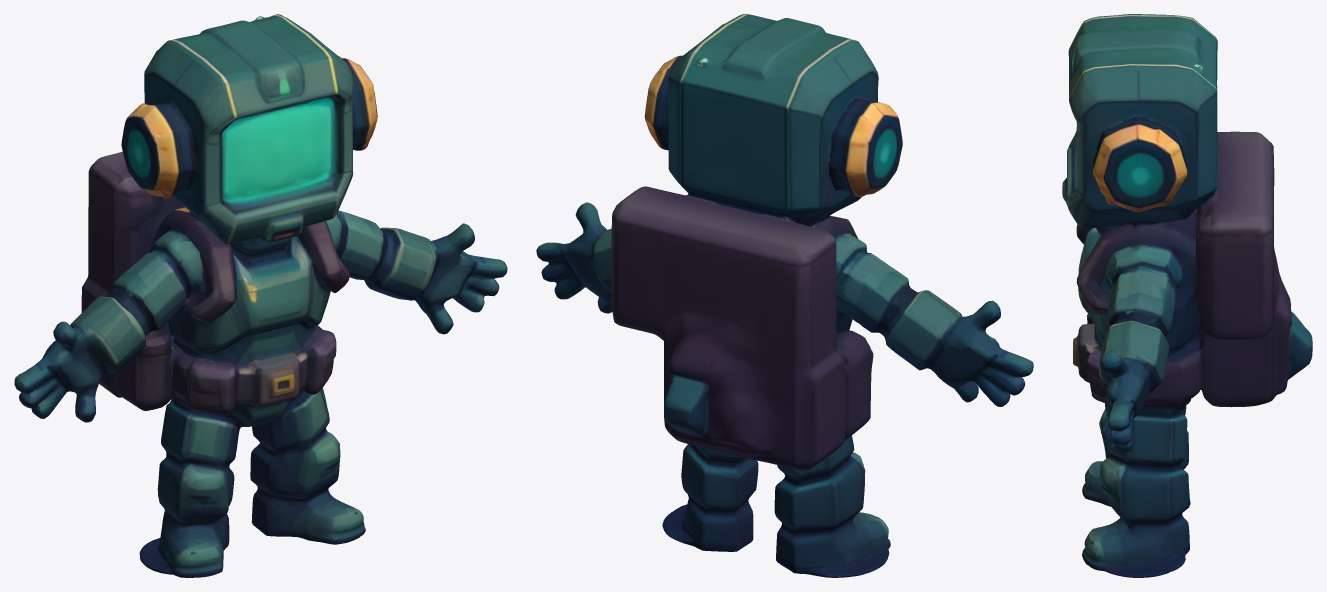
The model's file is explorer-voxel-mesh.glb.
3 renders of one model, left to right at view 1: azimuth 30°, elevation 25°; view 2: azimuth 150°, elevation 25°; view 3: azimuth 270°, elevation 25°, orthographic. The views are drawn at different scales.
Parts seen in each view (by area): view 1: tmpahwqqpk2.ply; view 2: tmpahwqqpk2.ply; view 3: tmpahwqqpk2.ply.
Boxes of the visible parts, x1,y1,x2,y2 form: tmpahwqqpk2.ply: (14,14,507,577); tmpahwqqpk2.ply: (536,14,1033,577); tmpahwqqpk2.ply: (1062,14,1312,577).
Bounding box in the file's own units: 0.9808 × 0.9646 × 0.4426.
Materials: 1 (1 with a texture image).
